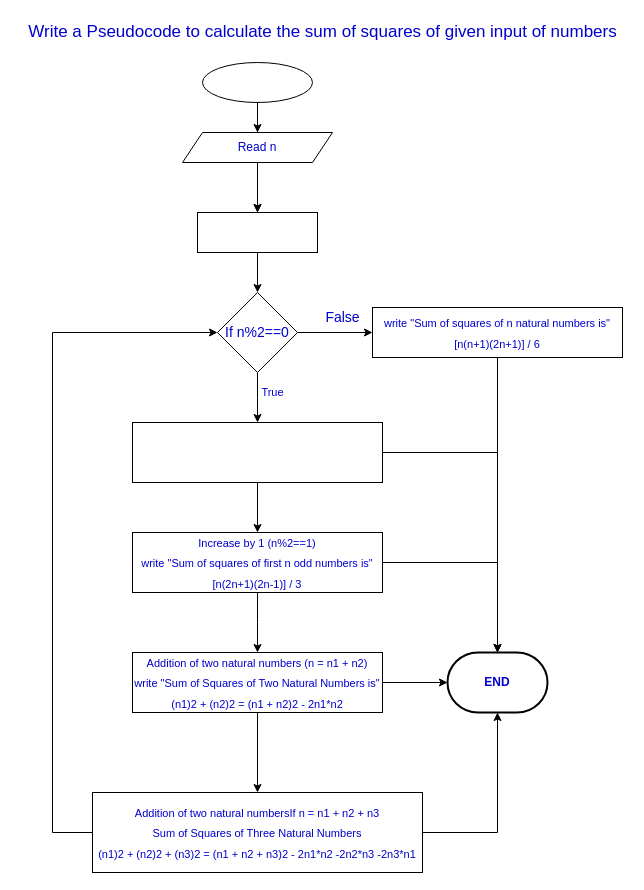
Some shapes in this 644 by 890 pixel diagram are drawn without their labels. The centre of each missing label's shape, as x and y in pixels:
For n = natural numbers: pixel 257 232
START: pixel 257 82
write "Sum of squares of first even numbers is" [2n(n + 1)(2n + 1)] / 3: pixel 257 452
